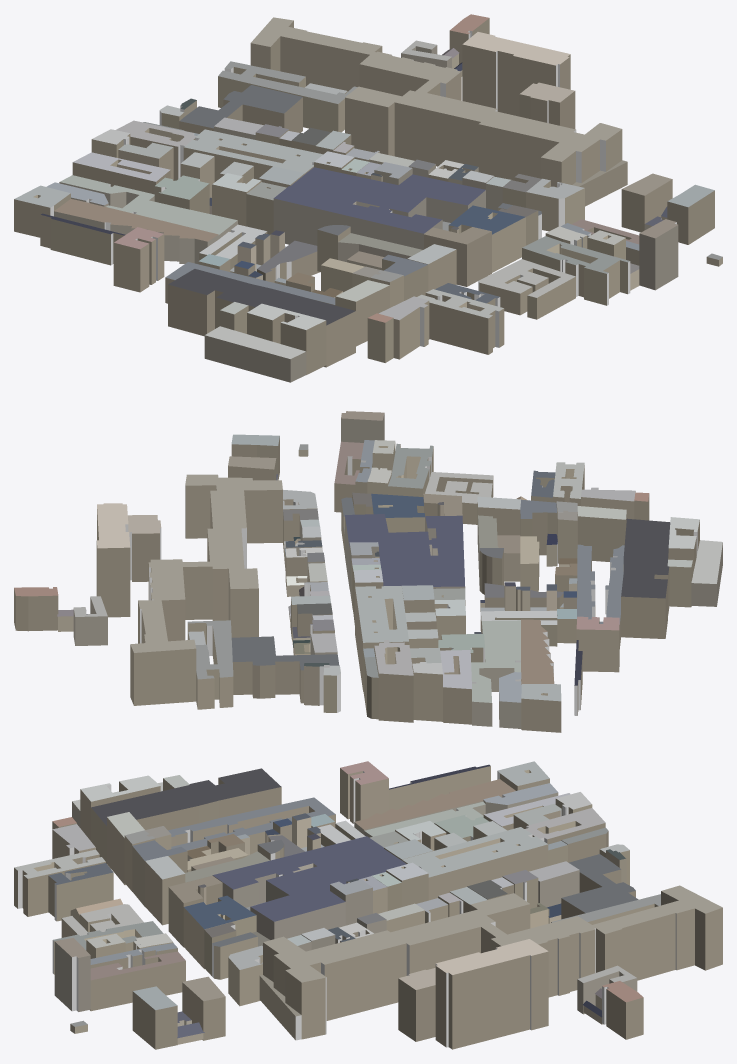
3 views of the same model, one above another, from view 1: azimuth 30°, elevation 25°; view 2: azimuth 150°, elevation 25°; view 3: azimuth 270°, elevation 25° (orthographic). The views are drawn at different scales.
Visible parts, largest first — view 1: tuile; view 2: tuile; view 3: tuile.
Part boxes in pixels (x1,y1,x2,y2): tuile: (14, 14, 722, 382); tuile: (14, 411, 722, 732); tuile: (14, 761, 722, 1049).
Size of the model in its own units: 272 by 42.62 by 307.
